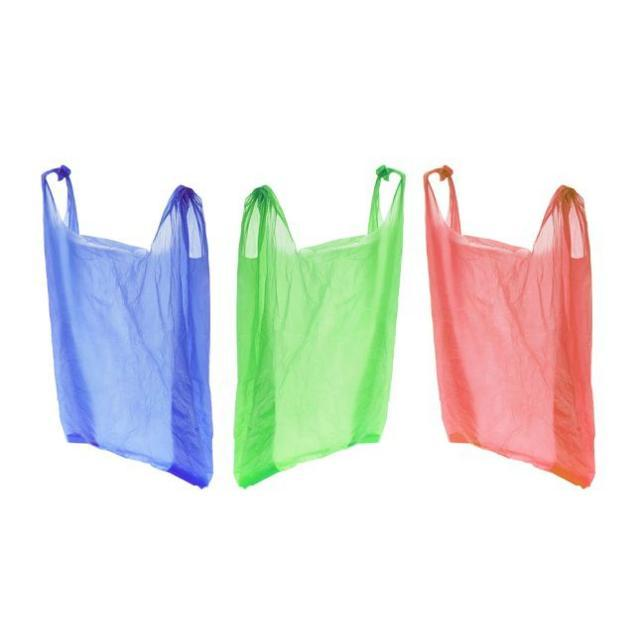Single-layer Plastic: (424, 166, 595, 487), (41, 166, 212, 486), (234, 166, 405, 486)
